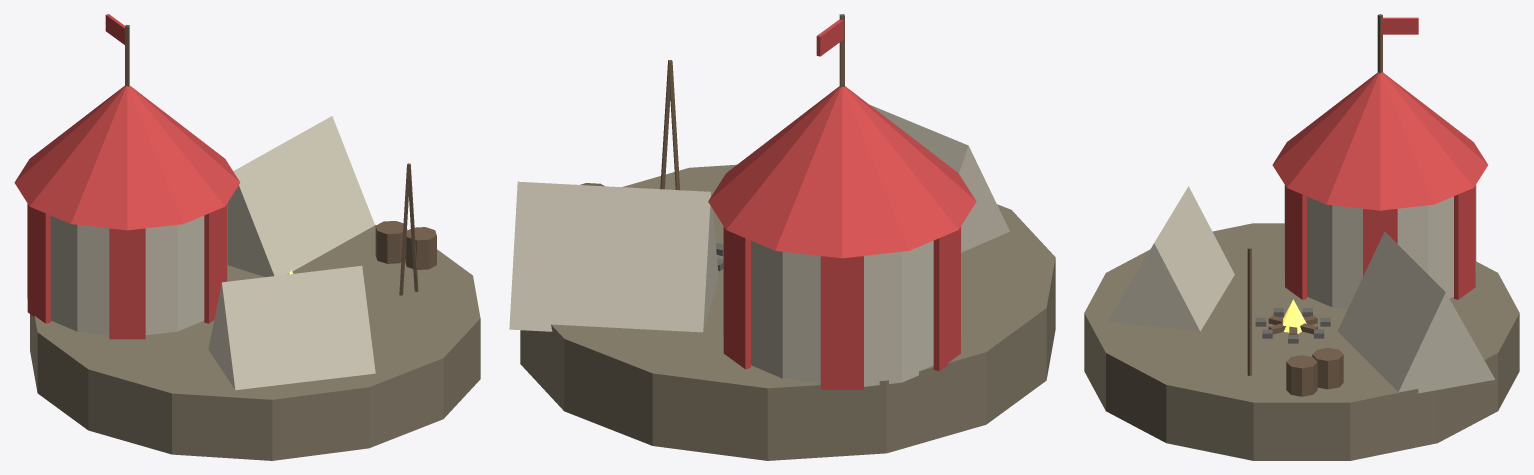
File: bivouac.glb
3 renders of one model, left to right at view 1: azimuth 30°, elevation 25°; view 2: azimuth 150°, elevation 25°; view 3: azimuth 270°, elevation 25°, orthographic. The views are drawn at different scales.
Visible parts, largest first — view 1: bivouac; view 2: bivouac; view 3: bivouac.
Part boxes in pixels (box(x1,y1,x2,y2)): bivouac: box(14, 14, 480, 460); bivouac: box(509, 14, 1055, 460); bivouac: box(1084, 14, 1519, 460).
Size of the model in its own units: 2.44 by 2 by 2.5.
